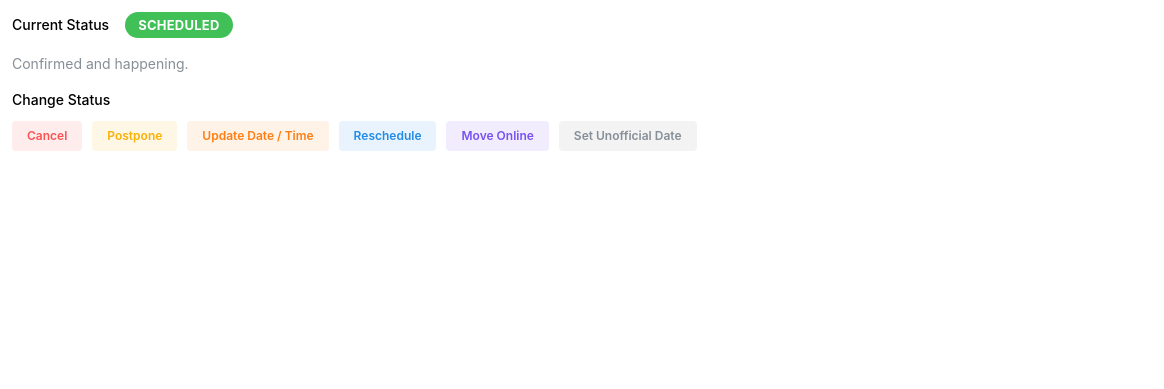
EventStatusSection › clicking "Cancel" action reveals cancellation_paragraph textarea and contact organizer toggle
Click the button "Cancel" at (47, 136), box left=12, top=121, right=82, bottom=151
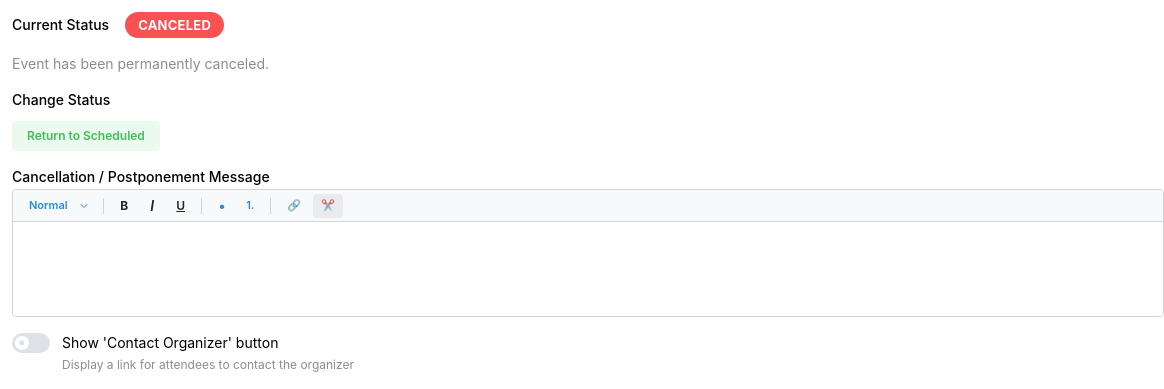
Expected: the text "Cancellation / Postponement Message" is shown, left=12, top=168, right=270, bottom=185
Expected: the text "Show 'Contact Organizer' button" is shown, left=62, top=334, right=278, bottom=351
